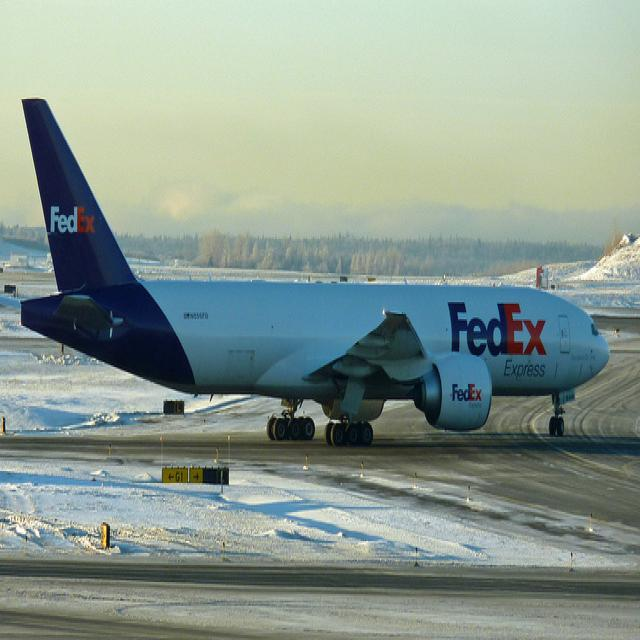airplane: (17, 97, 612, 450)
